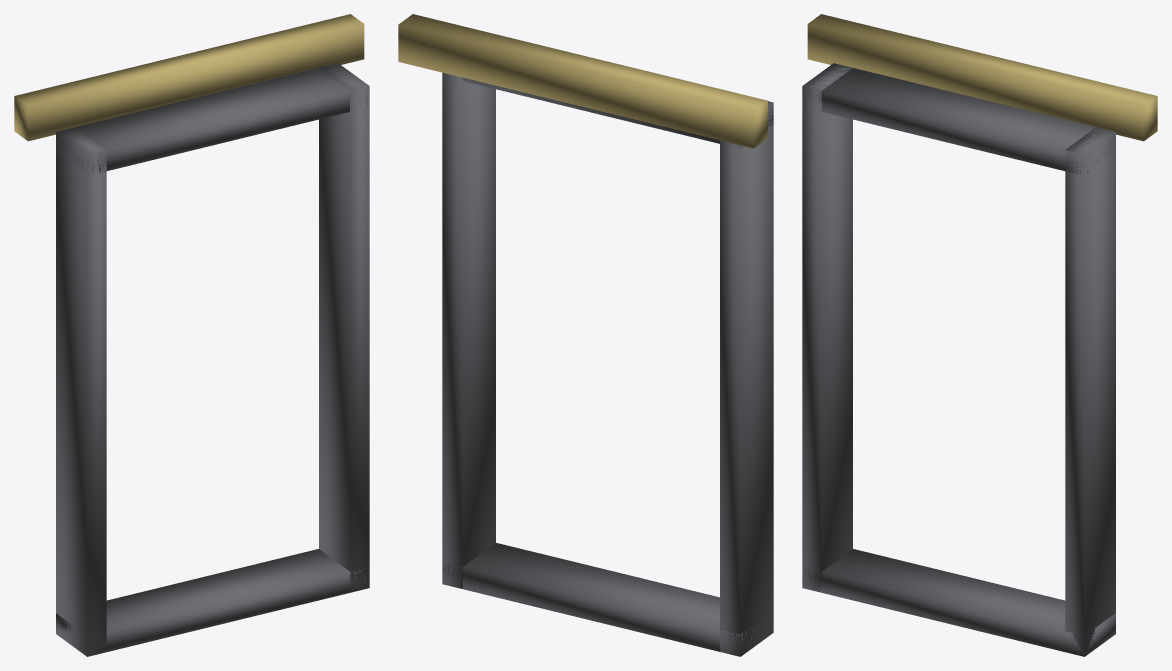
Rendered from egress_window_motel_w72_h130_s88_d16.glb.
3 renders of one model, left to right at view 1: azimuth 30°, elevation 25°; view 2: azimuth 150°, elevation 25°; view 3: azimuth 330°, elevation 25°, orthographic. The views are drawn at different scales.
Parts seen in each view (by area): view 1: world; view 2: world; view 3: world.
Part boxes in pixels (x1,y1,x2,y2): world: (14, 14, 369, 656); world: (398, 14, 773, 656); world: (802, 14, 1157, 656).
Bounding box in the file's own units: 0.9952 × 1.51 × 0.235.
